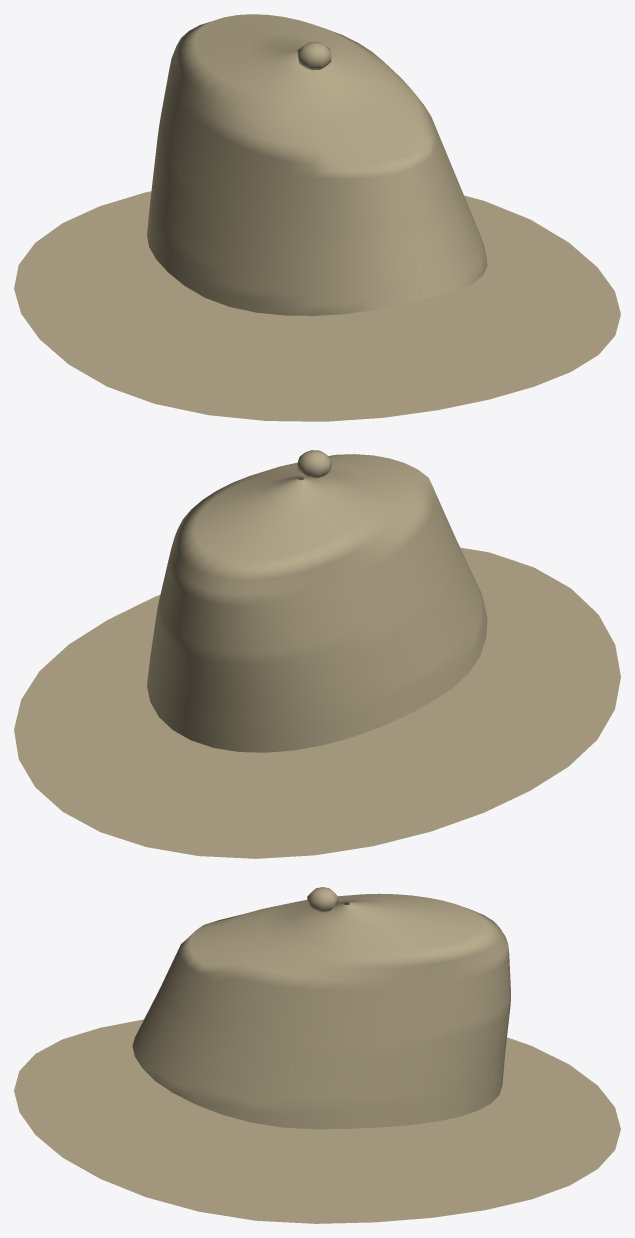
File: bucket_hat_f.glb
The picture shows the model from 3 angles, top to bottom: view 1: azimuth 30°, elevation 25°; view 2: azimuth 150°, elevation 25°; view 3: azimuth 270°, elevation 25°; orthographic projection. The views are drawn at different scales.
Visible parts, largest first — view 1: hair; view 2: hair; view 3: hair.
Part boxes in pixels (bbox=[...]): hair: bbox=[14, 14, 620, 421]; hair: bbox=[14, 450, 620, 858]; hair: bbox=[14, 887, 620, 1223].
Bounding box in the file's own units: 0.3463 × 0.1797 × 0.4114.
